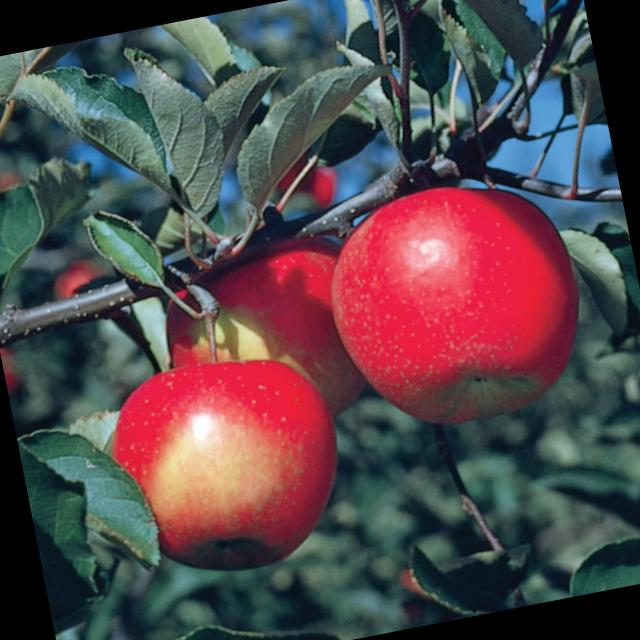apple: (310, 162, 596, 448), (92, 341, 358, 593), (140, 222, 402, 464)
